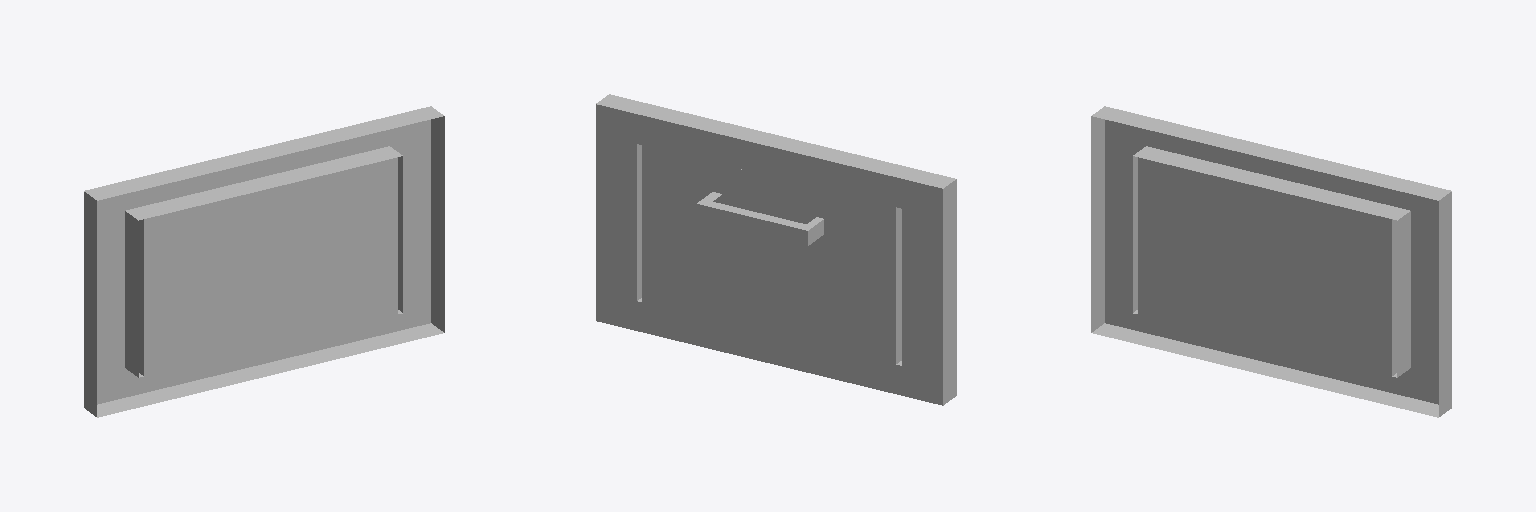
File: laundryChute.obj
The picture shows the model from 3 angles: view 1: azimuth 30°, elevation 25°; view 2: azimuth 150°, elevation 25°; view 3: azimuth 330°, elevation 25°; orthographic projection.
Parts seen in each view (by area): view 1: Cube.001, Cube; view 2: Cube.001, Cube; view 3: Cube.001, Cube.
Part boxes in pixels (x1,y1,x2,y2): Cube.001: (84,106,444,417); Cube: (139,157,397,375); Cube.001: (596,94,956,405); Cube: (642,145,901,363); Cube.001: (1091,106,1451,417); Cube: (1138,157,1396,375).
Bounding box in the file's own units: 4.4 × 2.62 × 0.6563.